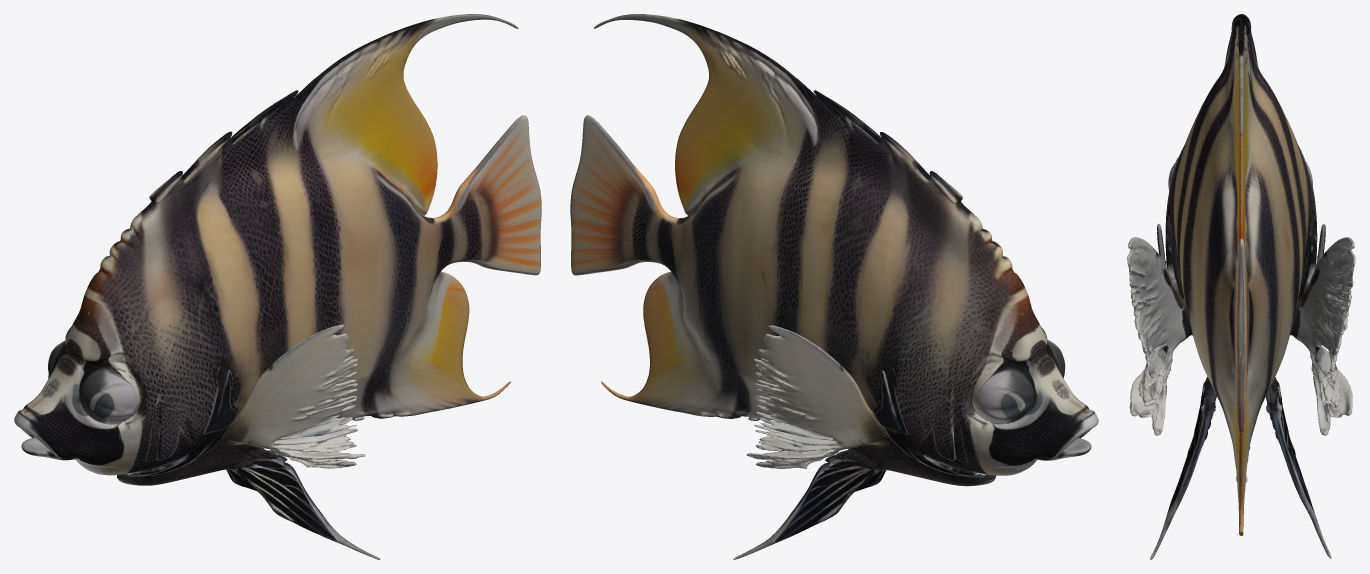
Rendered from butterflyfish.glb.
3 renders of one model, left to right at view 1: azimuth 30°, elevation 25°; view 2: azimuth 150°, elevation 25°; view 3: azimuth 270°, elevation 25°, orthographic. The views are drawn at different scales.
Parts seen in each view (by area): view 1: tripo_node_82f81668-5255-42f5-a21c-c208e16b98f8; view 2: tripo_node_82f81668-5255-42f5-a21c-c208e16b98f8; view 3: tripo_node_82f81668-5255-42f5-a21c-c208e16b98f8.
Part boxes in pixels (bbox=[...]): tripo_node_82f81668-5255-42f5-a21c-c208e16b98f8: bbox=[14, 14, 541, 559]; tripo_node_82f81668-5255-42f5-a21c-c208e16b98f8: bbox=[570, 14, 1098, 559]; tripo_node_82f81668-5255-42f5-a21c-c208e16b98f8: bbox=[1127, 14, 1355, 559].
Size of the model in its own units: 1 by 0.8916 by 0.3312.
Materials: 1 (1 with a texture image).
